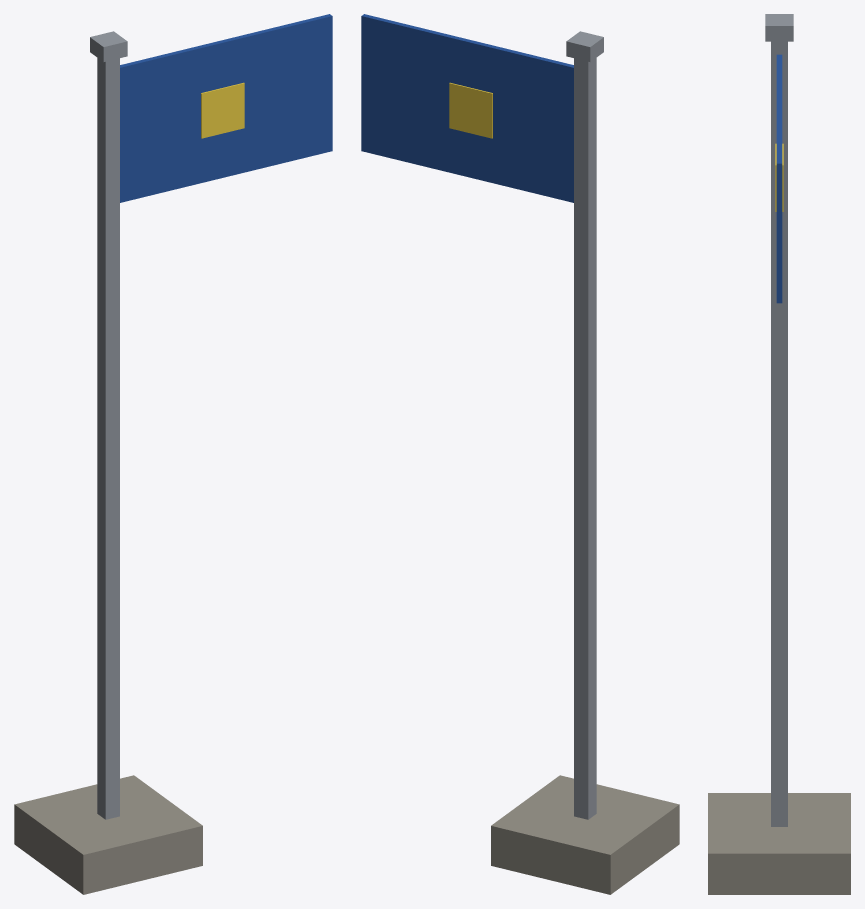
The model's file is esc-mastro.gltf.
3 renders of one model, left to right at view 1: azimuth 30°, elevation 25°; view 2: azimuth 150°, elevation 25°; view 3: azimuth 270°, elevation 25°, orthographic. The views are drawn at different scales.
Visible parts, largest first — view 1: esc-mastro; view 2: esc-mastro; view 3: esc-mastro.
Part boxes in pixels (x1,y1,x2,y2): esc-mastro: (14,14,332,894); esc-mastro: (361,14,679,894); esc-mastro: (708,14,850,894).
Bounding box in the file's own units: 1.18 × 3.26 × 0.5.
